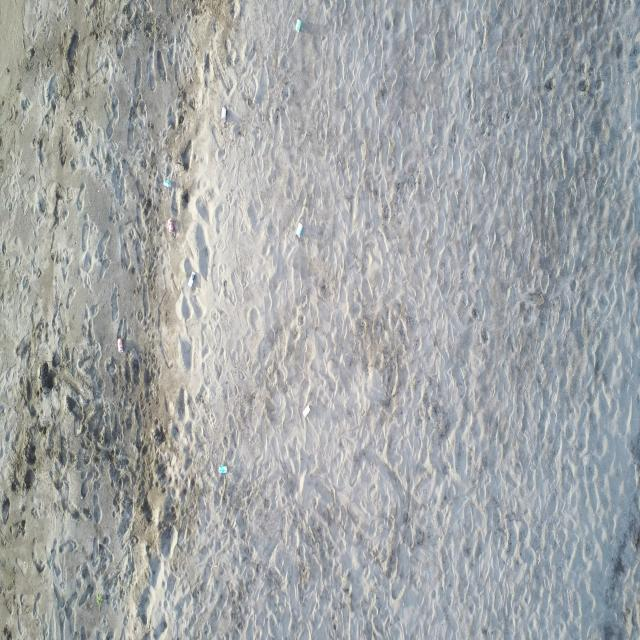Garbage: (167, 219, 176, 235), (187, 272, 196, 287), (295, 223, 303, 238), (116, 336, 123, 352), (95, 592, 103, 606), (220, 105, 226, 121), (295, 19, 301, 32), (218, 464, 227, 472), (164, 178, 172, 187), (301, 407, 308, 416)
